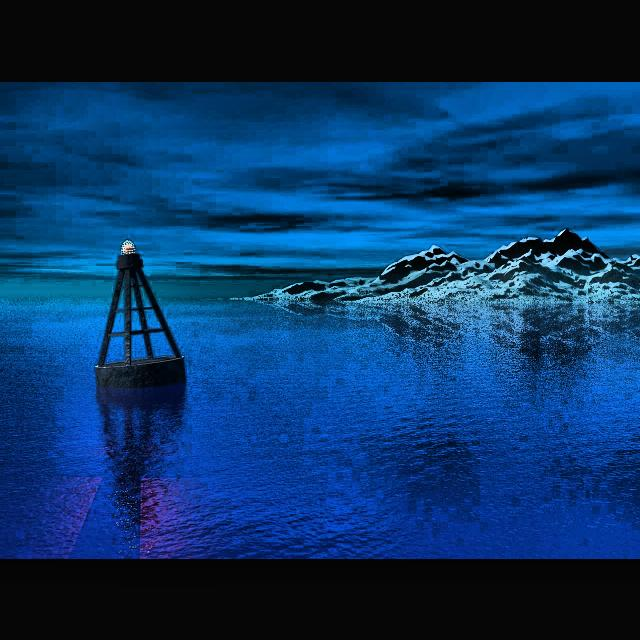buoy: (94, 238, 188, 390)
